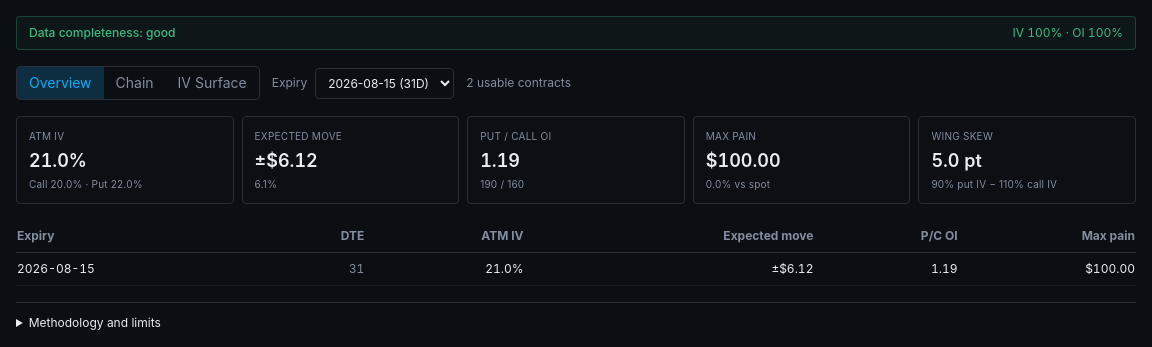
Scenario: OptionsPanel analytics › uses strike_price from the provider contract in the chain table
Click the button "Chain". click: (135, 83)
box: [104,67,166,99]
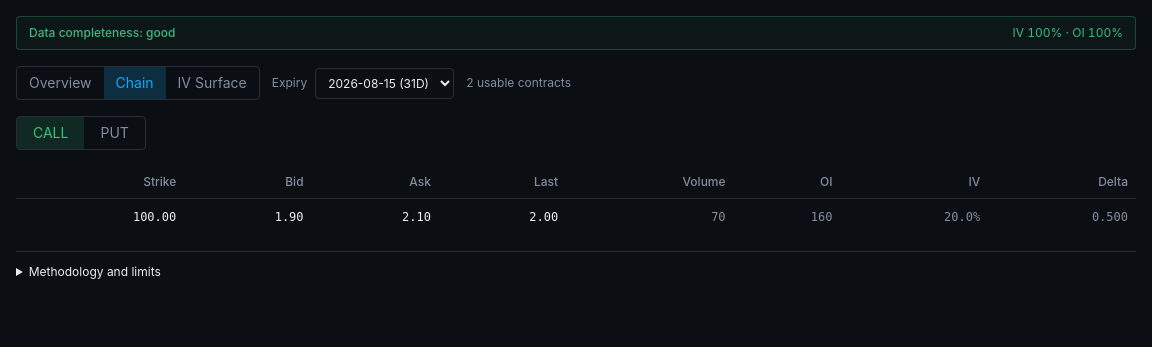
expect the text "100.00" is shown: met, box [133,210,176,224]
expect the table named "Options chain" is shown: met, box [16,166,1136,234]
